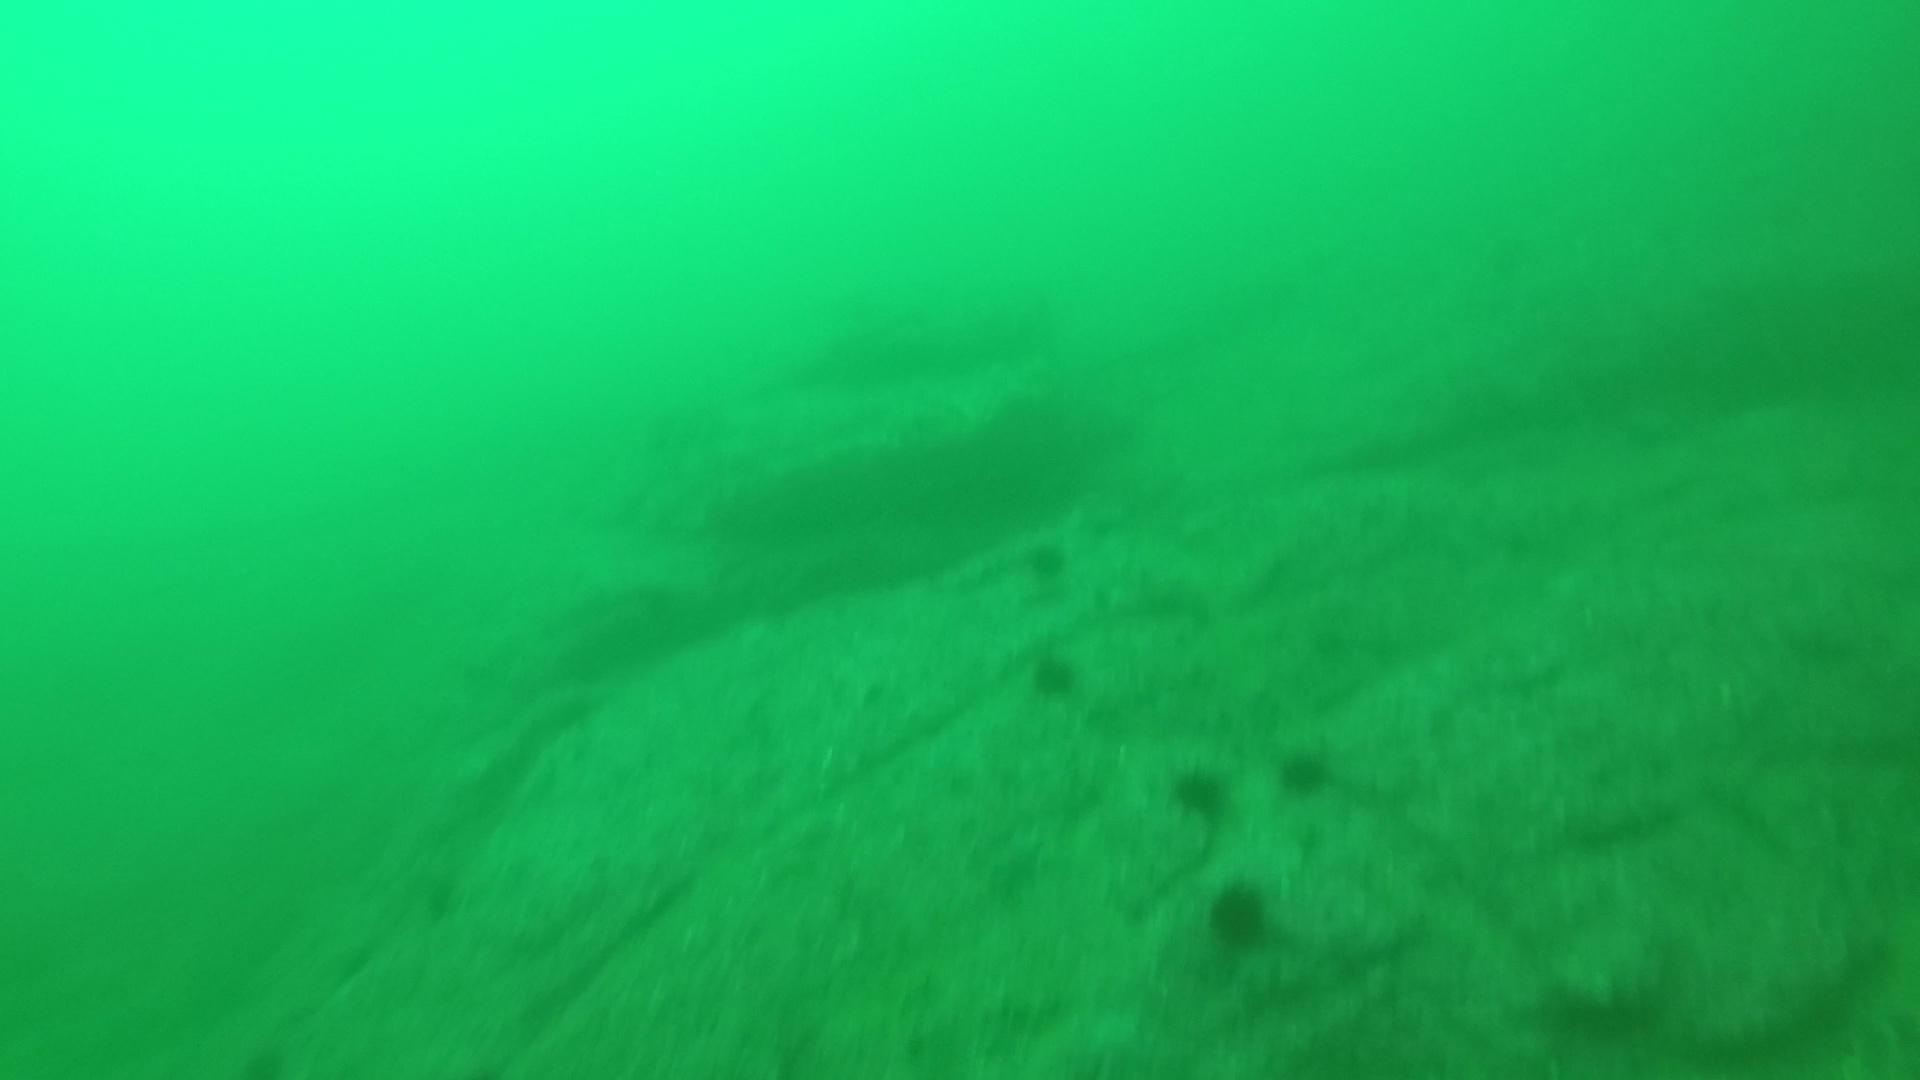echinus: (1199, 876, 1279, 955), (1163, 758, 1236, 824), (1273, 740, 1338, 800), (1022, 644, 1087, 704), (1015, 534, 1075, 585)
